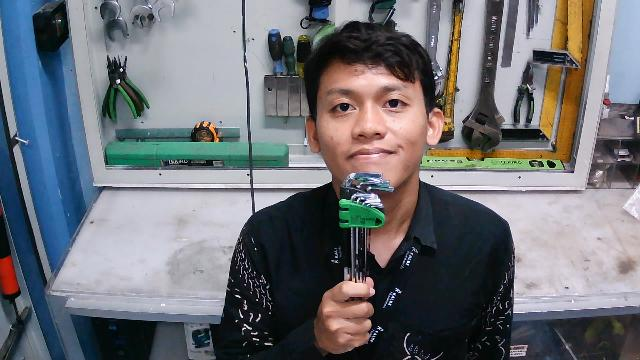kunci_l: (333, 171, 395, 316)
